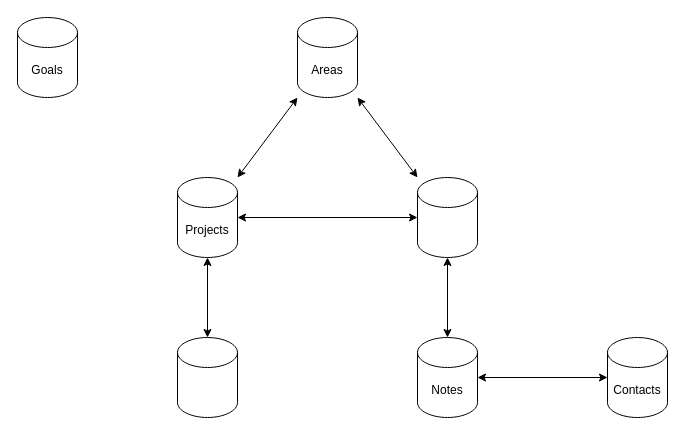
Image size: 685x435. Some labels were removed from this diagram. Each missing label, with the centre of its shape:
"Resources" goes at [447,217].
"Tasks" goes at [207,377].
